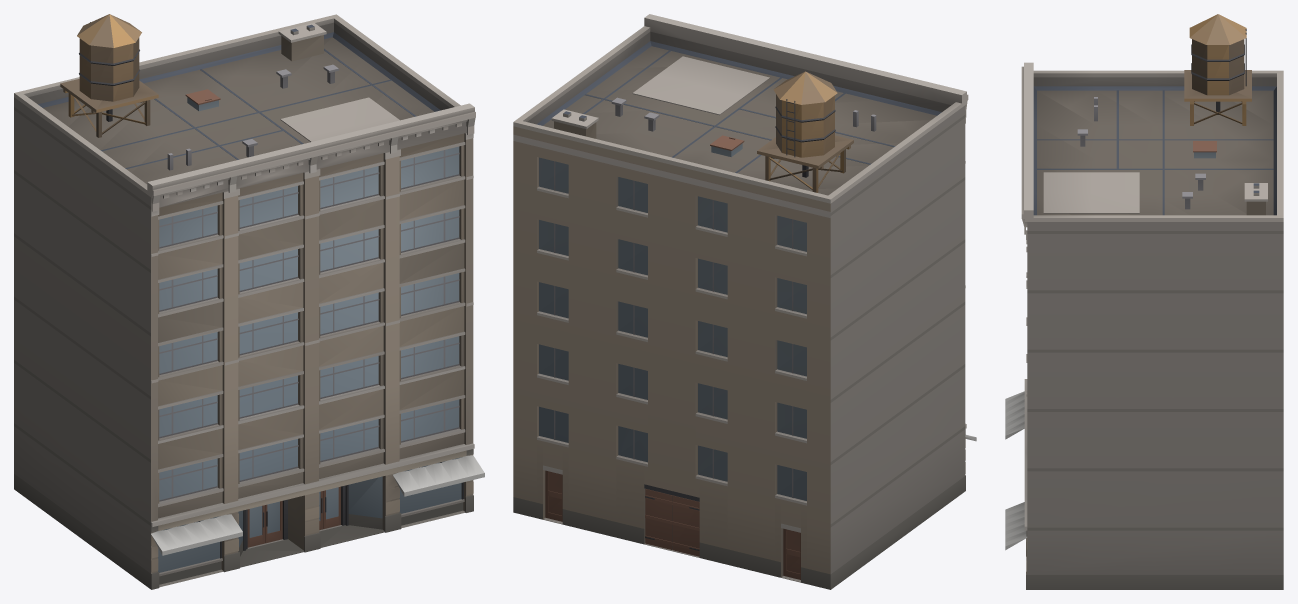
The model's file is dept.glb.
3 renders of one model, left to right at view 1: azimuth 30°, elevation 25°; view 2: azimuth 150°, elevation 25°; view 3: azimuth 270°, elevation 25°, orthographic. The views are drawn at different scales.
Parts seen in each view (by area): view 1: dept; view 2: dept; view 3: dept.
Part boxes in pixels (bbox=[...]): dept: bbox=[14, 14, 484, 589]; dept: bbox=[513, 14, 976, 589]; dept: bbox=[1005, 14, 1283, 589].
Size of the model in its own units: 16 by 23.06 by 12.75.
